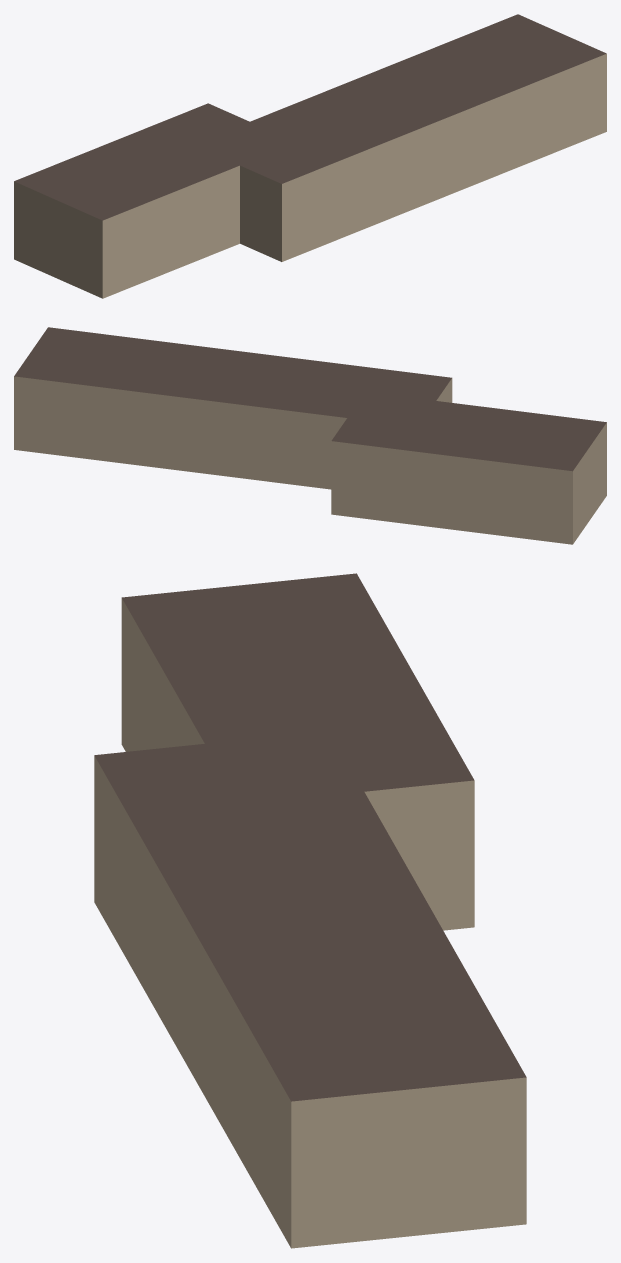
The picture shows the model from 3 angles, top to bottom: view 1: azimuth 30°, elevation 25°; view 2: azimuth 150°, elevation 25°; view 3: azimuth 270°, elevation 25°; orthographic projection. The views are drawn at different scales.
Visible parts, largest first — view 1: HP-w859488632; view 2: HP-w859488632; view 3: HP-w859488632.
Boxes of the visible parts, left/top/right/bottom form: HP-w859488632: left=14, top=14, right=606, bottom=298; HP-w859488632: left=14, top=327, right=606, bottom=544; HP-w859488632: left=94, top=573, right=526, bottom=1248.
Size of the model in its own units: 69.36 by 9 by 24.
